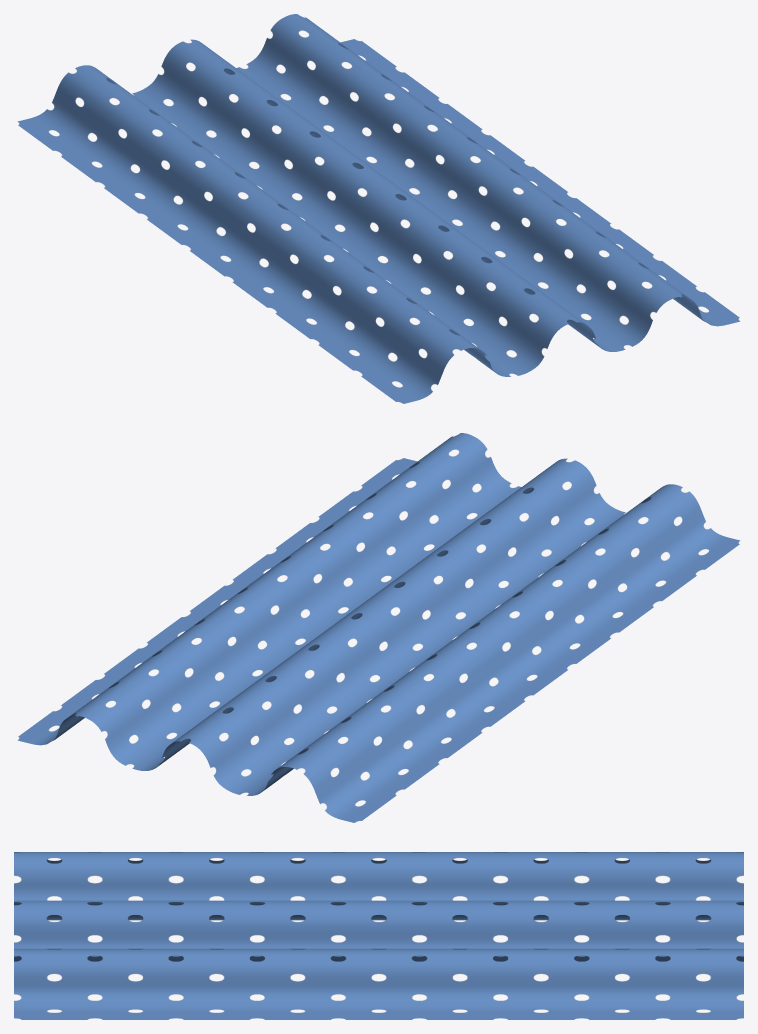
File: пленка_тест3.glb
3 views of the same model, one above another, from view 1: azimuth 30°, elevation 25°; view 2: azimuth 150°, elevation 25°; view 3: azimuth 270°, elevation 25° (orthographic). The views are drawn at different scales.
Visible parts, largest first — view 1: Plane.001; view 2: Plane.001; view 3: Plane.001.
Boxes of the visible parts, x1,y1,x2,y2 form: Plane.001: (17, 14, 739, 403); Plane.001: (18, 433, 740, 822); Plane.001: (14, 852, 743, 1019).
Size of the model in its own units: 0.2572 by 0.0286 by 0.5.
1 material, 1 textured.
